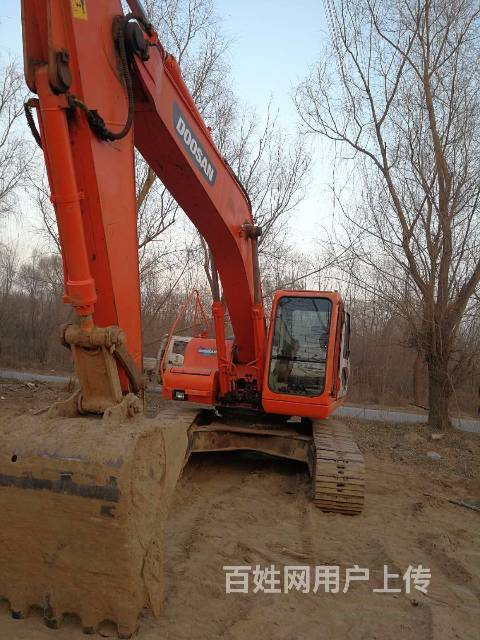excavator: (1, 1, 384, 637)
